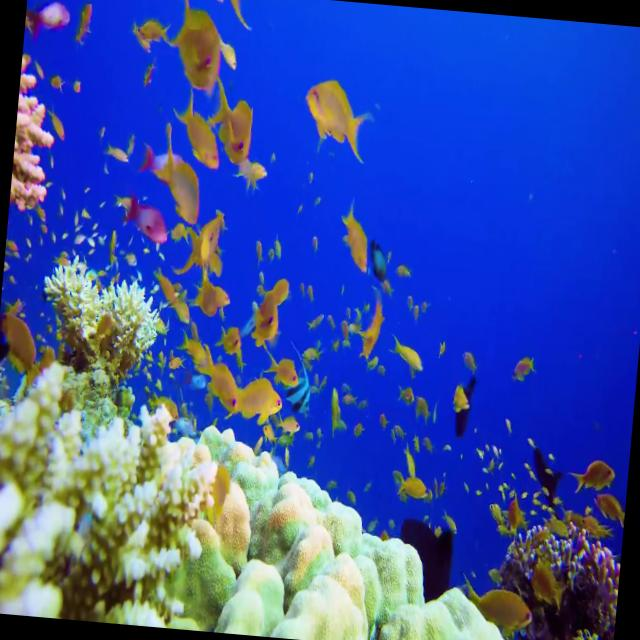fish: (300, 72, 374, 160), (162, 0, 222, 92), (153, 127, 205, 221), (461, 578, 536, 638), (174, 92, 224, 169), (195, 344, 242, 412), (222, 372, 284, 422), (339, 198, 372, 272), (568, 458, 617, 496), (24, 0, 74, 36), (285, 362, 316, 418), (262, 350, 302, 384), (389, 334, 425, 370)
